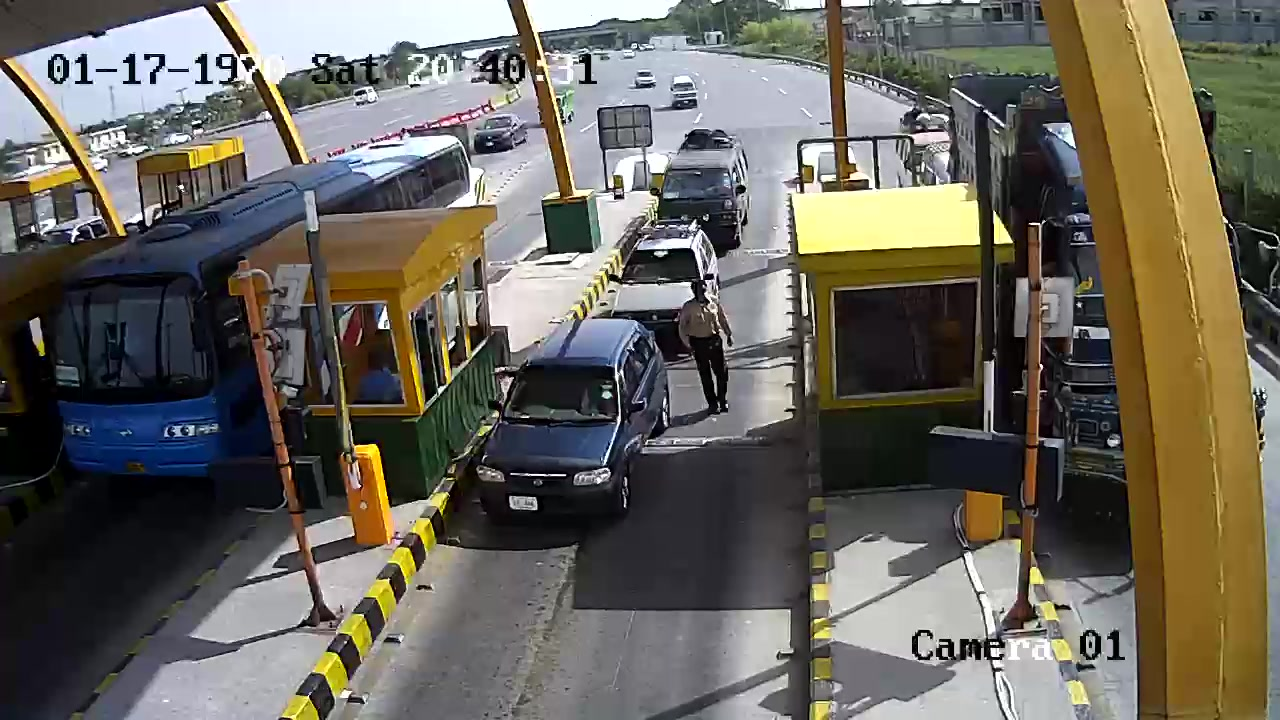F1: (467, 314, 677, 552), (582, 216, 738, 368)
